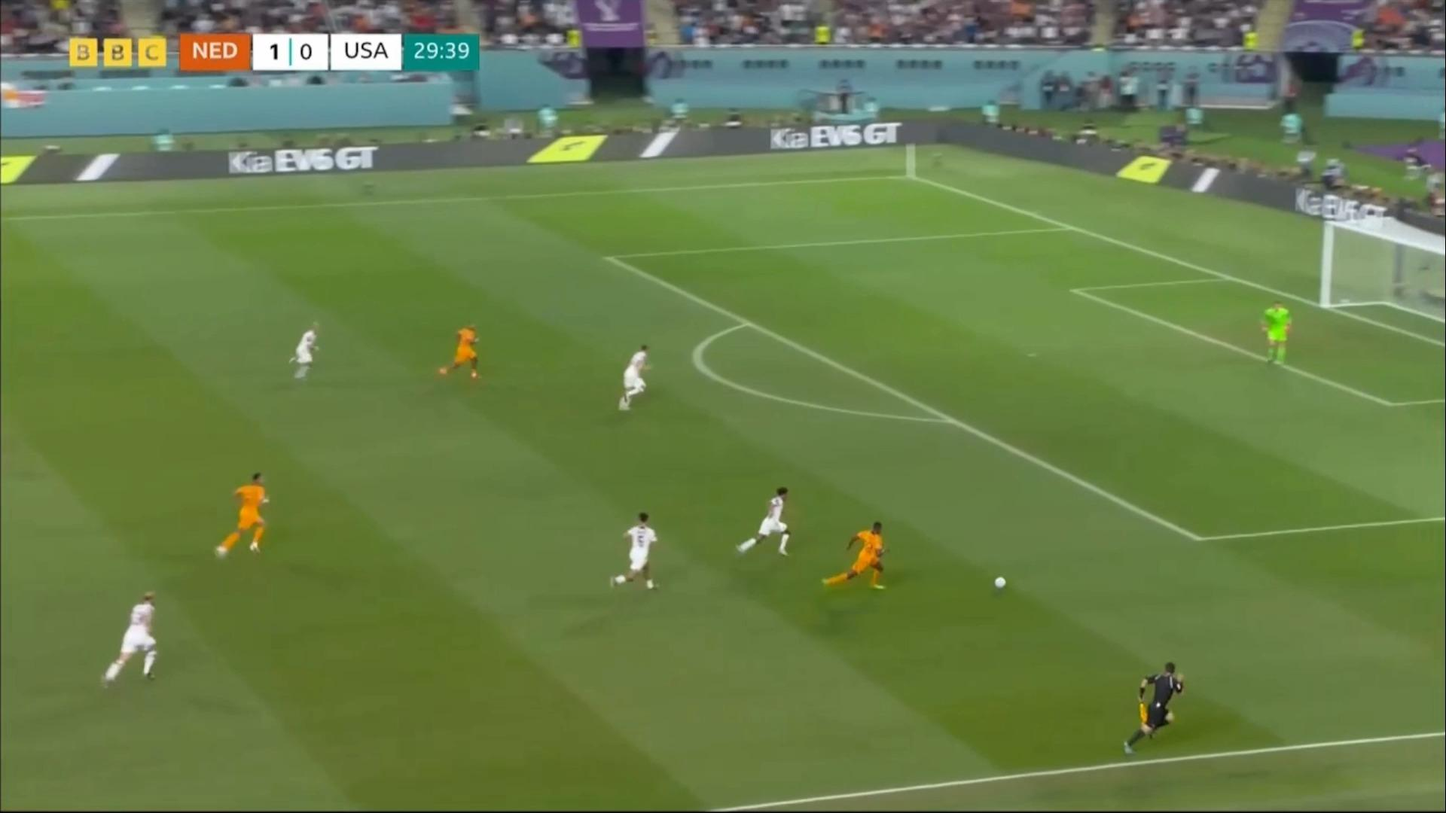Ball: (992, 574, 1010, 590)
Player: (102, 586, 169, 691), (211, 472, 277, 564), (735, 482, 803, 566), (823, 521, 896, 598), (607, 511, 668, 599), (614, 339, 659, 419), (433, 320, 486, 386), (284, 320, 327, 390), (1261, 302, 1293, 365)
Ref: (1120, 658, 1193, 749)
